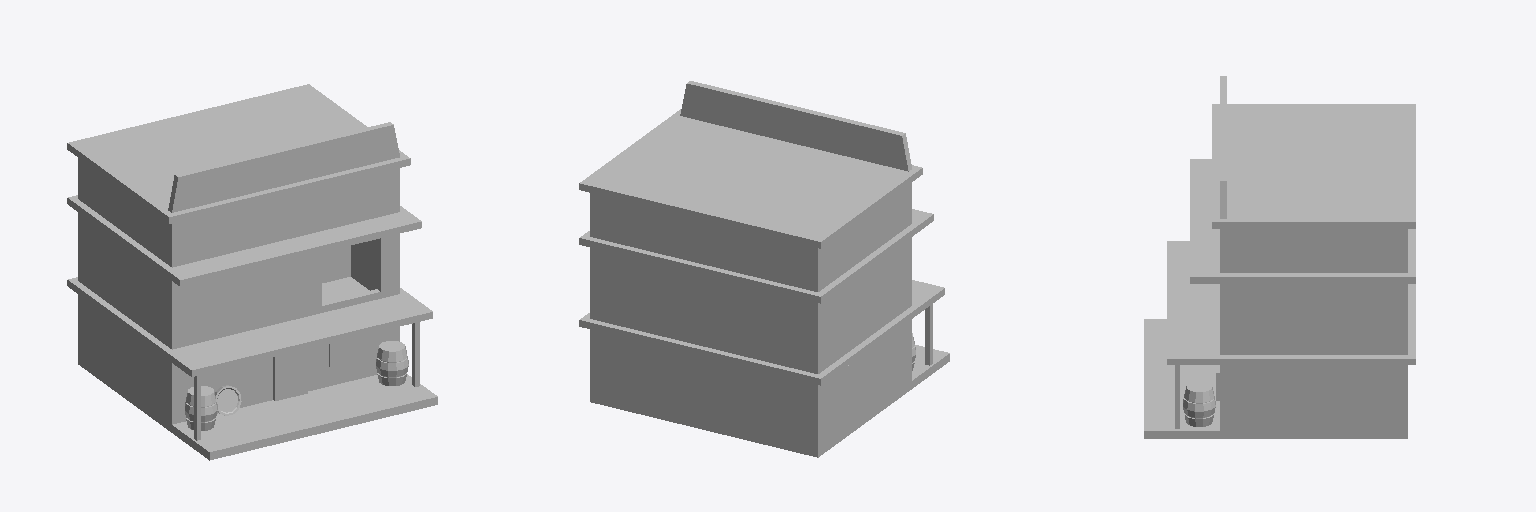
Rendered from town hall.obj.
3 views of the same model, side by side, from view 1: azimuth 30°, elevation 25°; view 2: azimuth 150°, elevation 25°; view 3: azimuth 270°, elevation 25° (orthographic).
Visible parts, largest first — view 1: building, door, barrel, bulletin_board, barrel_2, wheel; view 2: building; view 3: building, barrel.
Part boxes in pixels (x1,y1,x2,y2): building: (67,84,437,460); door: (273,349,307,400); barrel: (376,341,408,385); bulletin_board: (329,331,382,366); barrel_2: (185,386,217,430); wheel: (215,385,241,415); building: (579,81,949,457); building: (1144,76,1415,438); barrel: (1183,381,1215,426).
Bounding box in the file's own units: 2.31 × 2.33 × 2.25.